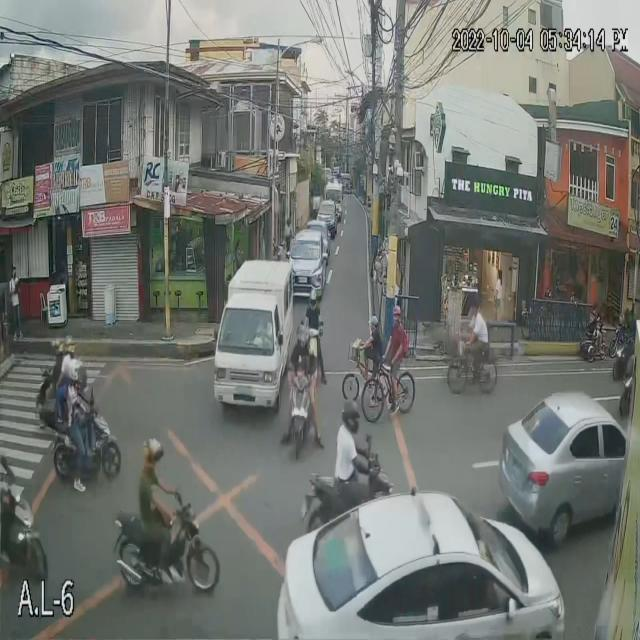Full-Faced: (338, 395, 366, 436), (139, 432, 163, 472), (295, 317, 311, 347), (307, 282, 319, 313)
Invalid: (62, 356, 82, 388), (365, 312, 381, 334), (390, 305, 404, 324)
